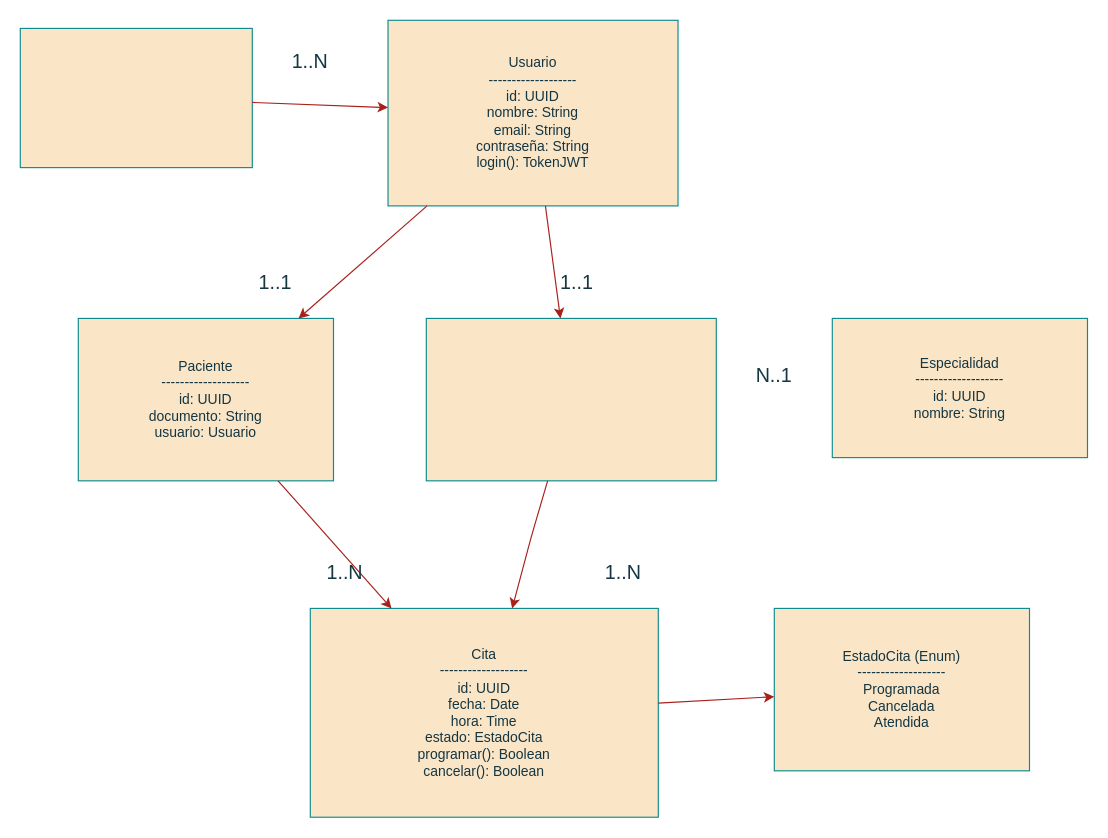
This 1108x838 diagram has some shape labels left out. Each missing label, with the centre of its shape:
"Medico ------------------- id: UUID usuario: Usuario especialidad: Especialidad" goes at [570,399].
"Rol ------------------- id: UUID nombre: String" goes at [135,97].
